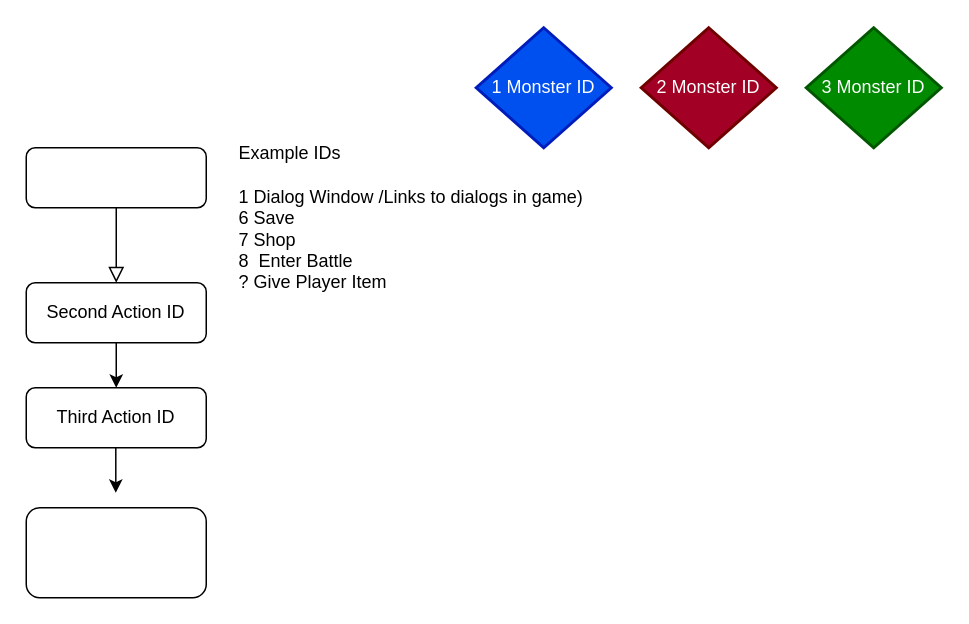
Some shapes in this 969 by 624 pixel diagram are drawn without their labels. The centre of each missing label's shape, as x and y in pixels:
"First Action ID" belongs at (x=115, y=177).
"Fourth Action ID" belongs at (x=115, y=552).
